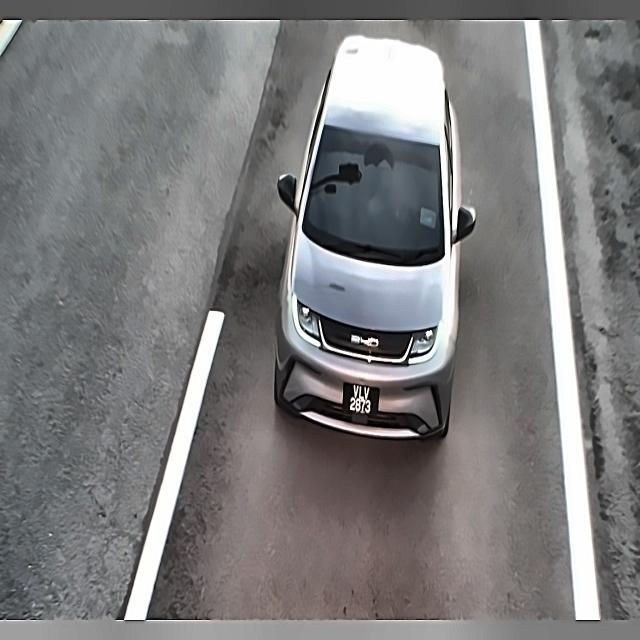car: (342, 379, 381, 423)
